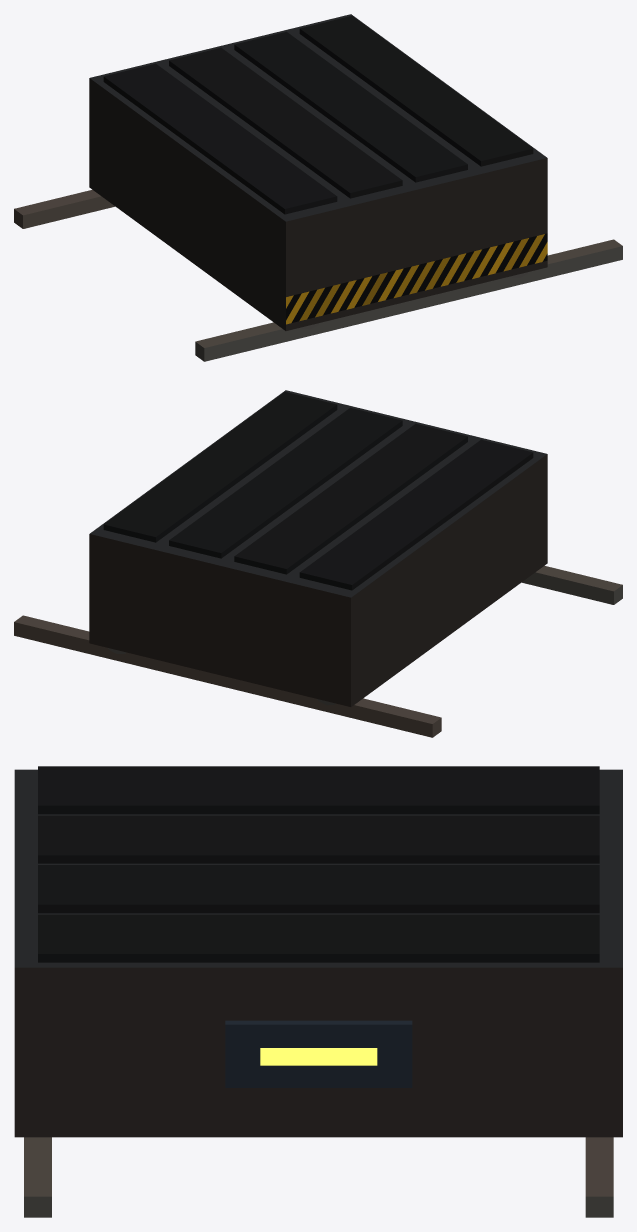
The model's file is counterweight_sled.glb.
3 views of the same model, one above another, from view 1: azimuth 30°, elevation 25°; view 2: azimuth 150°, elevation 25°; view 3: azimuth 270°, elevation 25° (orthographic). The views are drawn at different scales.
Parts seen in each view (by area): view 1: Frame; view 2: Frame; view 3: Frame.
Boxes of the visible parts, x1=… form: Frame: x1=14, y1=14, x2=622, y2=361; Frame: x1=14, y1=390, x2=622, y2=737; Frame: x1=14, y1=766, x2=622, y2=1217.
Bounding box in the file's own units: 3.2 × 0.94 × 2.6.
